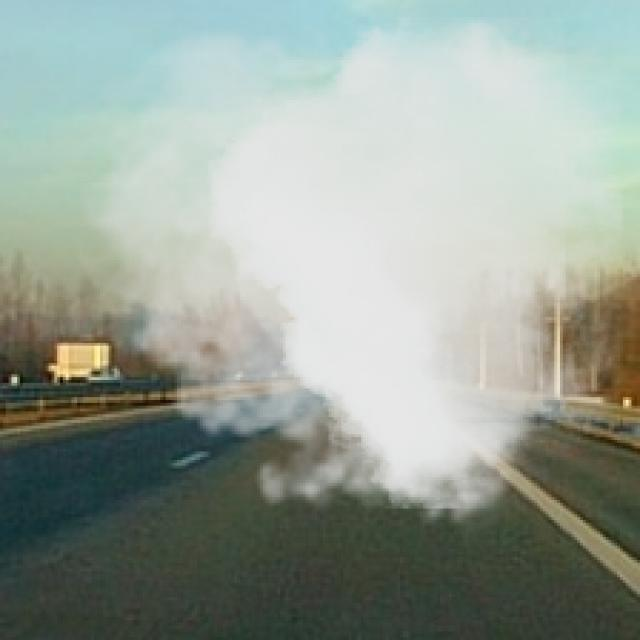Smoke: (63, 17, 623, 540)
